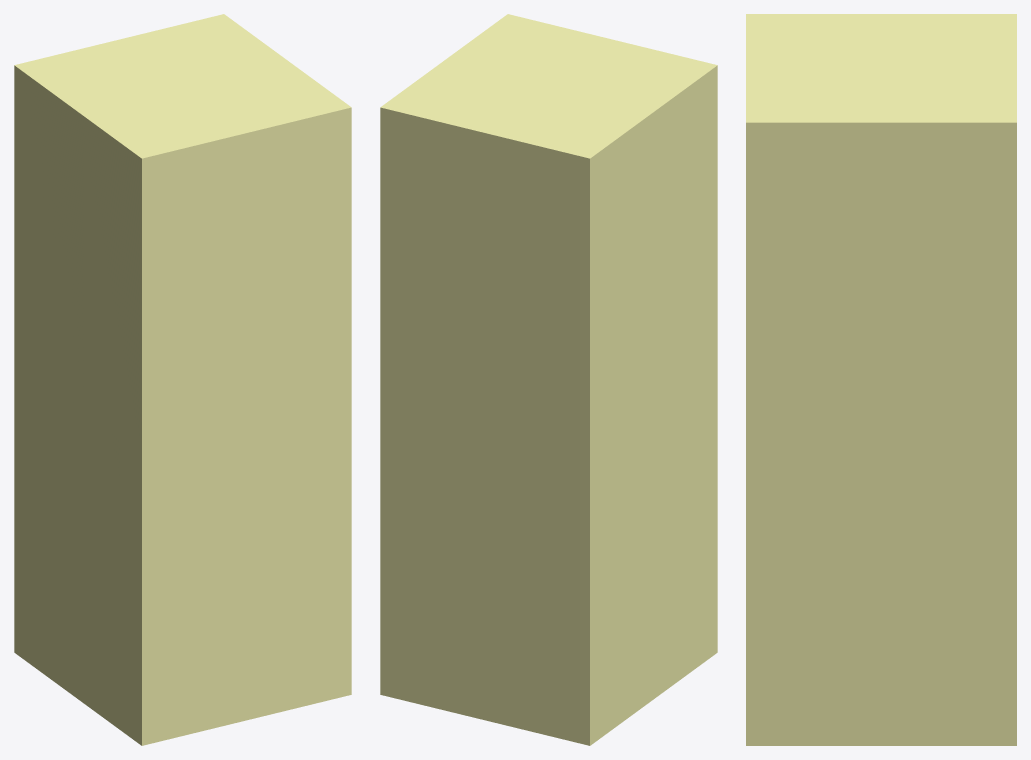
The model's file is MangaKa Building blocks - BB_Block01.glb.
3 renders of one model, left to right at view 1: azimuth 30°, elevation 25°; view 2: azimuth 150°, elevation 25°; view 3: azimuth 270°, elevation 25°, orthographic. The views are drawn at different scales.
Parts seen in each view (by area): view 1: Block01; view 2: Block01; view 3: Block01.
Part boxes in pixels (bbox=[...]): Block01: bbox=[14, 14, 351, 745]; Block01: bbox=[380, 14, 717, 745]; Block01: bbox=[746, 14, 1016, 745].
Bounding box in the file's own units: 2.82 × 7.54 × 2.97.
